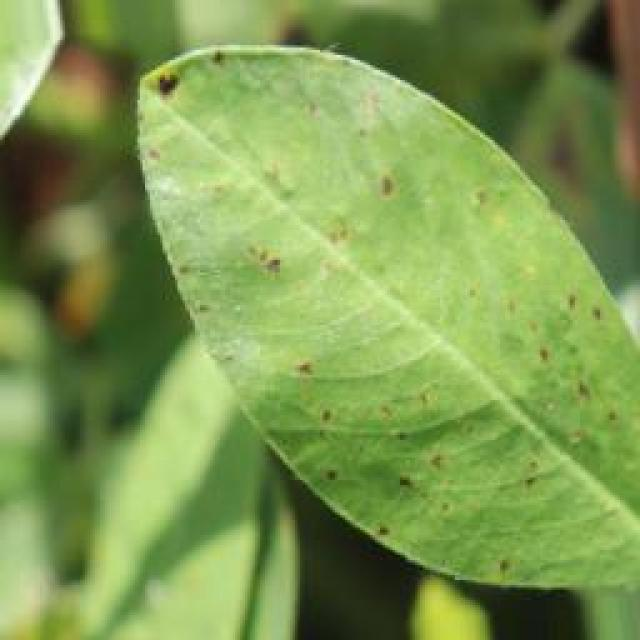Sigatoka: (261, 305, 478, 537), (475, 255, 640, 445), (307, 76, 483, 236), (202, 152, 314, 312), (133, 51, 207, 127)
